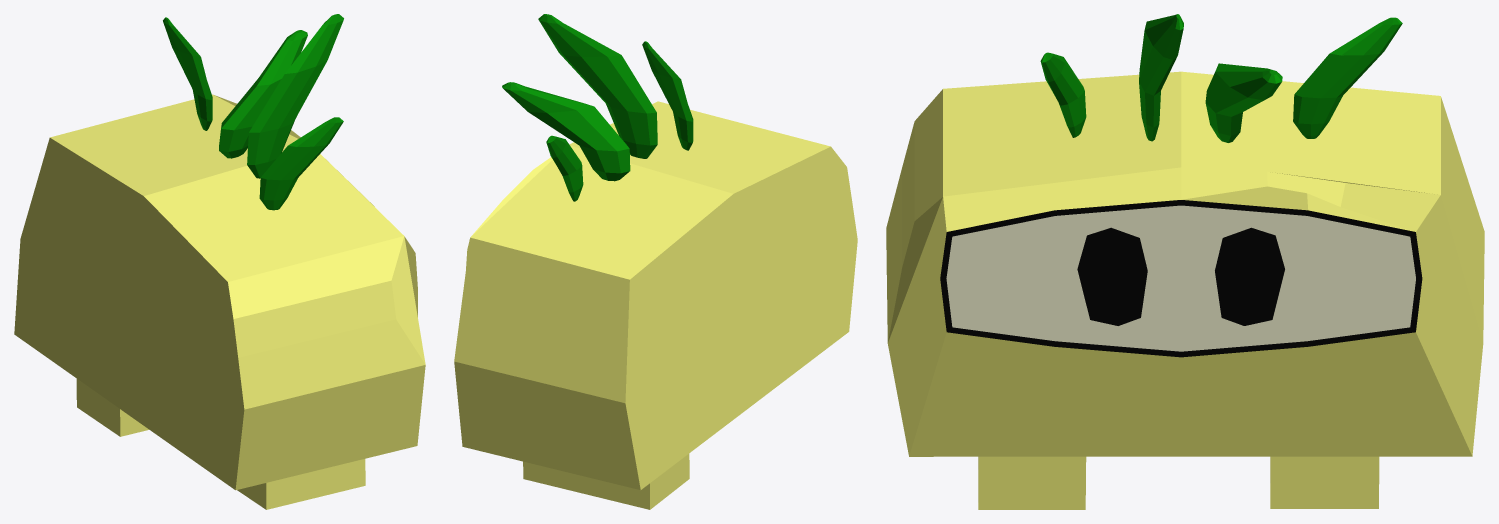
The picture shows the model from 3 angles, left to right: view 1: azimuth 30°, elevation 25°; view 2: azimuth 150°, elevation 25°; view 3: azimuth 270°, elevation 25°; orthographic projection. The views are drawn at different scales.
Visible parts, largest first — view 1: Palmy; view 2: Palmy; view 3: Palmy.
Boxes of the visible parts, bbox=[...] form: Palmy: bbox=[14, 14, 425, 509]; Palmy: bbox=[454, 14, 857, 509]; Palmy: bbox=[886, 14, 1484, 509].
Bounding box in the file's own units: 0.3178 × 0.5649 × 0.5836.
1 material, 1 textured.
